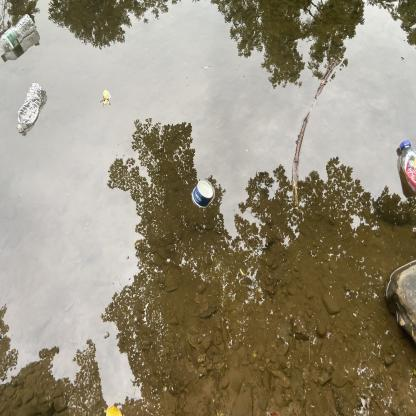trash: (14, 78, 48, 139), (0, 15, 40, 60), (392, 136, 416, 193), (188, 175, 217, 211)
